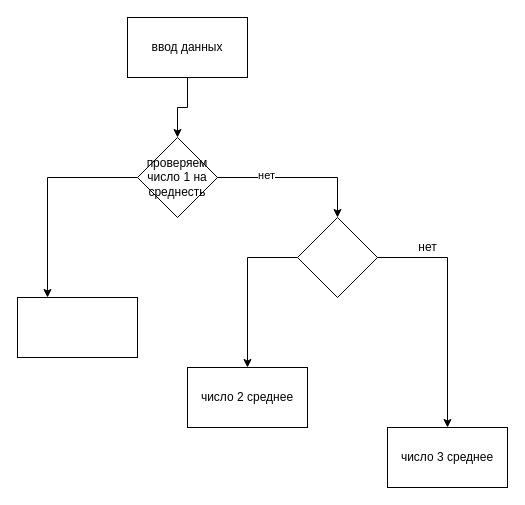
Image size: 525x505. Some labels were removed from this diagram. Here are the shapes that lost their labels. From the top down, the centre of each, then its label:
(x=337, y=257): проверяем число 2 на среднесть
(x=77, y=327): число 1 среднее
